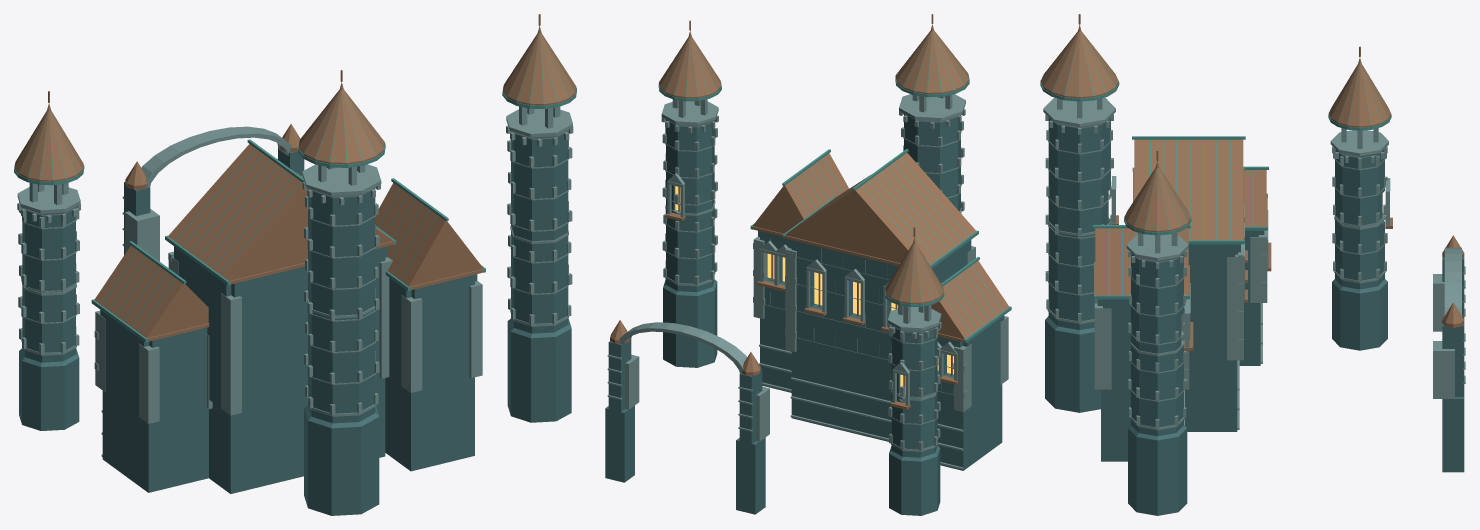
File: world11-monastery-architecture-v3.glb
3 views of the same model, side by side, from view 1: azimuth 30°, elevation 25°; view 2: azimuth 150°, elevation 25°; view 3: azimuth 270°, elevation 25° (orthographic). The views are drawn at different scales.
Visible parts, largest first — view 1: W11_Citadel_Rear_Geometry, W11_Rear_Moon_Tower_Geometry, W11_East_Spire_Geometry, W11_West_Belfry_Geometry, W11_Open_Processional_Gate_Geometry; view 2: W11_Citadel_Rear_Geometry, W11_East_Spire_Geometry, W11_West_Belfry_Geometry, W11_Open_Processional_Gate_Geometry, W11_Rear_Moon_Tower_Geometry; view 3: W11_Citadel_Rear_Geometry, W11_Rear_Moon_Tower_Geometry, W11_East_Spire_Geometry, W11_West_Belfry_Geometry, W11_Open_Processional_Gate_Geometry.
Part boxes in pixels (bbox=[...]): W11_Citadel_Rear_Geometry: bbox=[91, 139, 485, 493]; W11_Rear_Moon_Tower_Geometry: bbox=[298, 70, 385, 515]; W11_East_Spire_Geometry: bbox=[502, 14, 576, 422]; W11_West_Belfry_Geometry: bbox=[14, 91, 84, 430]; W11_Open_Processional_Gate_Geometry: bbox=[122, 124, 304, 261]; W11_Citadel_Rear_Geometry: bbox=[750, 149, 1011, 470]; W11_East_Spire_Geometry: bbox=[658, 20, 721, 367]; W11_West_Belfry_Geometry: bbox=[884, 227, 944, 515]; W11_Open_Processional_Gate_Geometry: bbox=[605, 320, 769, 514]; W11_Rear_Moon_Tower_Geometry: bbox=[895, 14, 969, 213]; W11_Citadel_Rear_Geometry: bbox=[1093, 136, 1271, 461]; W11_Rear_Moon_Tower_Geometry: bbox=[1040, 14, 1119, 412]; W11_East_Spire_Geometry: bbox=[1124, 150, 1192, 515]; W11_West_Belfry_Geometry: bbox=[1328, 46, 1392, 350]; W11_Open_Processional_Gate_Geometry: bbox=[1433, 235, 1465, 472].
Size of the model in its own units: 29.19 by 27.2 by 27.34.
